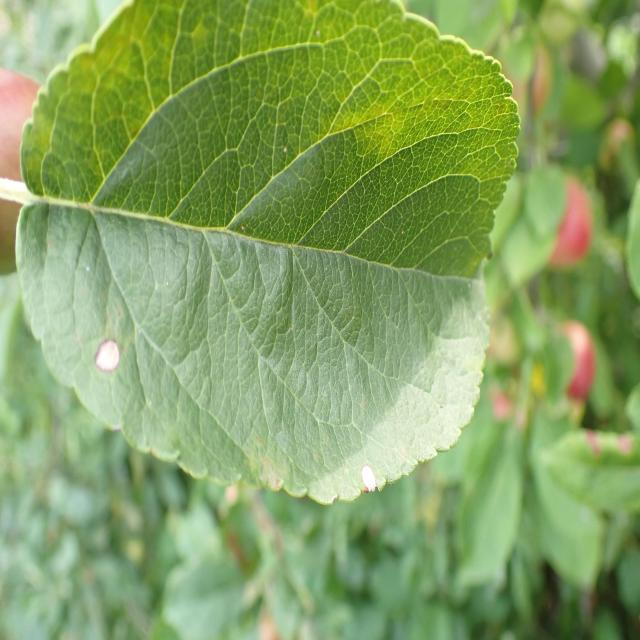frog-eye-leaf-spot: (14, 2, 520, 506)
